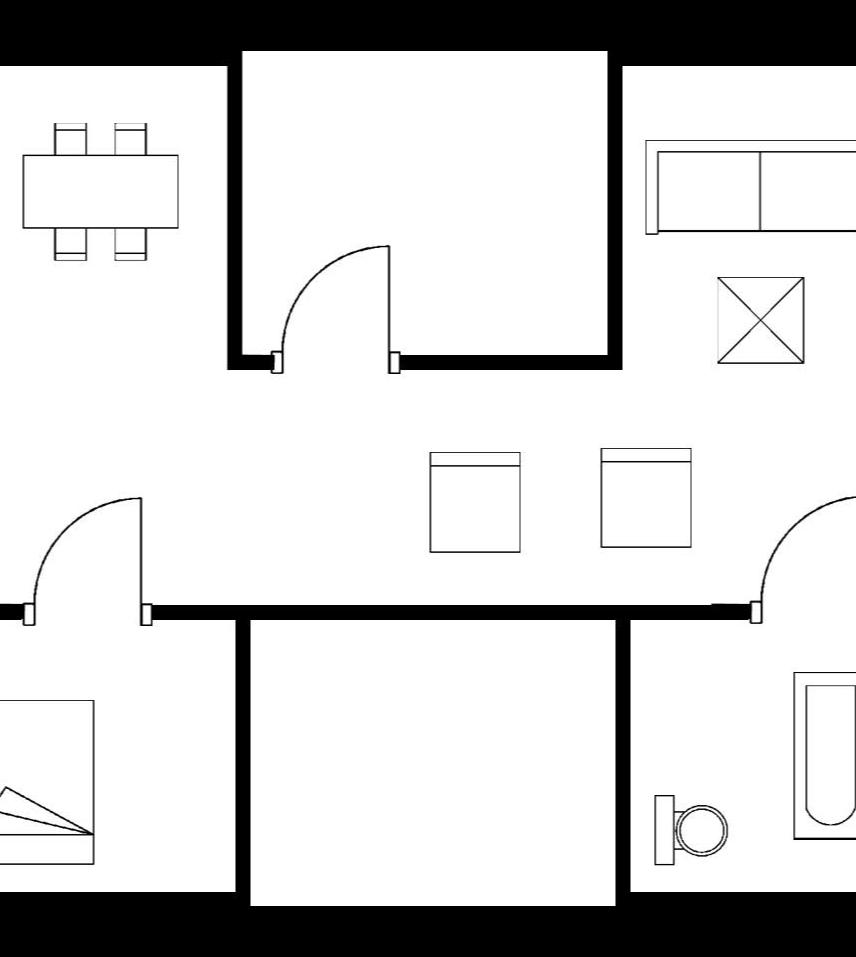bed: (0, 693, 99, 873)
dining_table: (12, 116, 186, 268)
sofa: (635, 133, 856, 245)
toilet: (646, 790, 730, 874)
tub: (784, 664, 856, 851)
